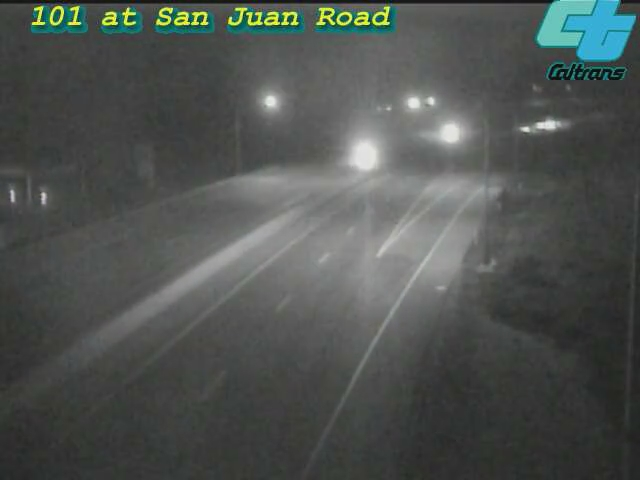vehicle: (337, 130, 387, 180), (421, 110, 471, 160), (533, 97, 583, 147), (514, 100, 564, 150), (500, 105, 550, 155)
